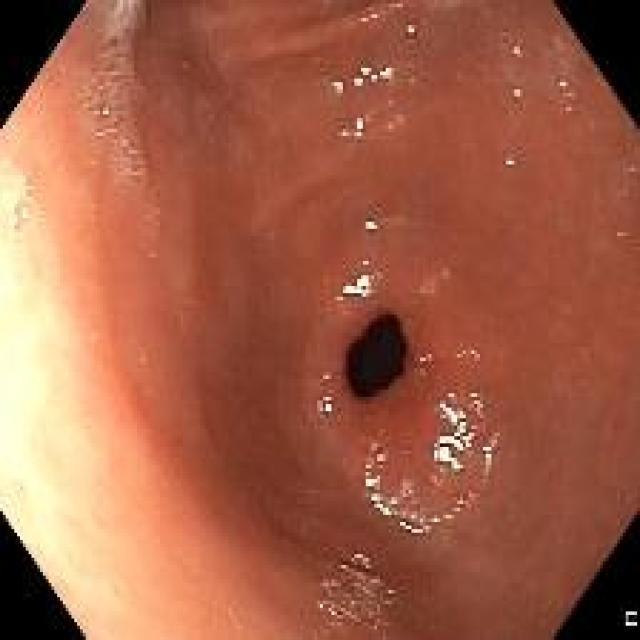bubbles: (82, 34, 152, 183), (366, 603, 389, 631), (412, 350, 435, 377), (11, 203, 31, 234), (314, 575, 338, 592), (454, 495, 473, 515), (381, 586, 397, 606), (340, 592, 357, 610), (452, 345, 468, 362), (145, 205, 159, 222), (344, 555, 358, 572), (360, 555, 374, 572), (427, 476, 443, 490), (319, 369, 332, 386), (201, 110, 213, 126), (469, 346, 479, 362), (22, 180, 34, 193), (320, 597, 331, 607), (329, 622, 341, 631)
contrast: (344, 312, 407, 400)
saturation: (0, 134, 174, 634)
specularity: (430, 422, 477, 473), (431, 392, 469, 421), (353, 64, 394, 88), (370, 490, 396, 519), (341, 274, 371, 298), (399, 517, 434, 537), (363, 460, 378, 486), (352, 116, 365, 138), (481, 440, 494, 460), (316, 402, 332, 412), (332, 79, 344, 91), (361, 221, 377, 230), (511, 85, 521, 97), (469, 389, 481, 399), (503, 157, 514, 167), (376, 453, 385, 464), (101, 107, 110, 116), (406, 24, 414, 33), (559, 81, 567, 88)
